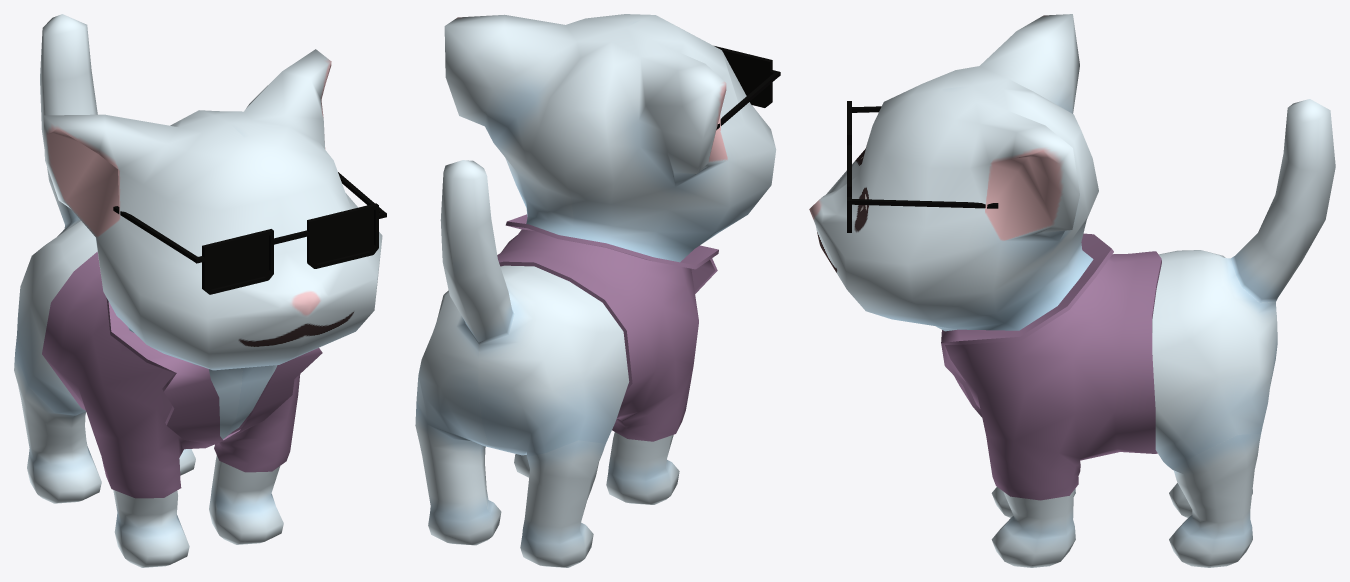
Rendered from Theater Cat05.fbx.
3 renders of one model, left to right at view 1: azimuth 30°, elevation 25°; view 2: azimuth 150°, elevation 25°; view 3: azimuth 270°, elevation 25°, orthographic. The views are drawn at different scales.
Visible parts, largest first — view 1: Cat_Base004, TS_Cat_Shirt, Theater_Cat_Glasses; view 2: Cat_Base004, TS_Cat_Shirt, Theater_Cat_Glasses; view 3: Cat_Base004, TS_Cat_Shirt, Theater_Cat_Glasses.
Boxes of the visible parts, x1,y1,x2,y2 form: Cat_Base004: (14, 14, 382, 567); TS_Cat_Shirt: (42, 251, 322, 498); Theater_Cat_Glasses: (113, 172, 386, 294); Cat_Base004: (415, 14, 776, 567); TS_Cat_Shirt: (497, 214, 718, 441); Theater_Cat_Glasses: (714, 46, 780, 129); Cat_Base004: (809, 14, 1335, 567); TS_Cat_Shirt: (941, 233, 1161, 500); Theater_Cat_Glasses: (847, 101, 998, 232).
Bounding box in the file's own units: 1.75 × 2.83 × 2.68.
4 materials, 1 textured.
